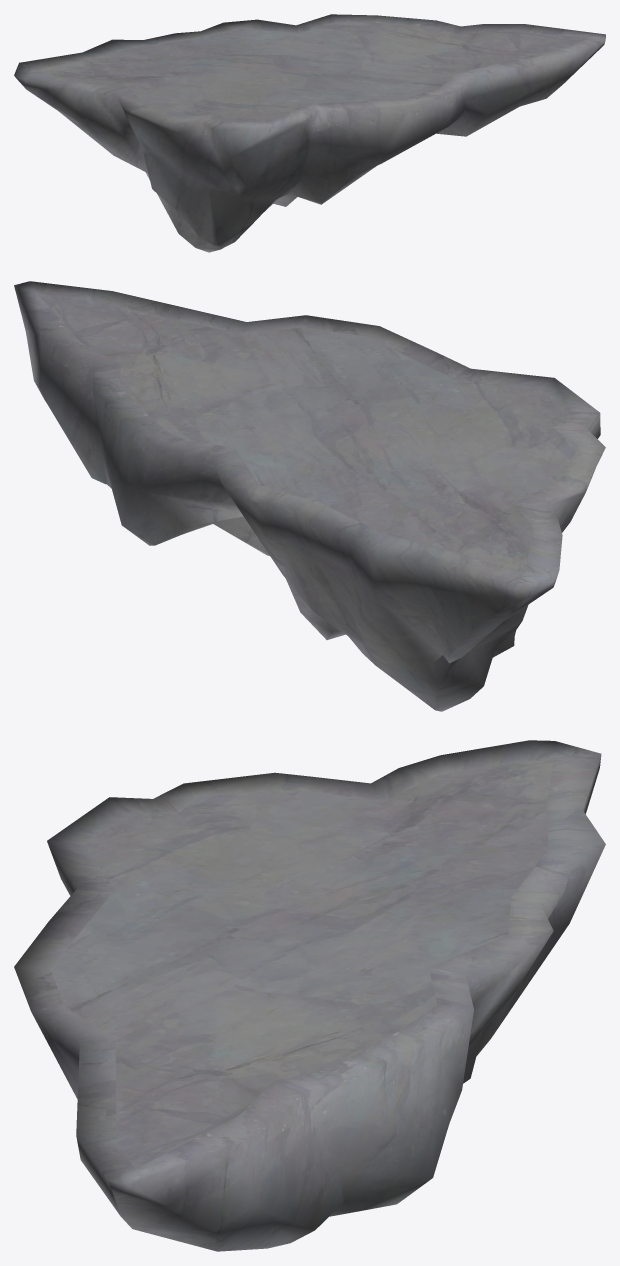
Rendered from Stages_MD_SDLStone10.fbx.
The picture shows the model from 3 angles, top to bottom: view 1: azimuth 30°, elevation 25°; view 2: azimuth 150°, elevation 25°; view 3: azimuth 270°, elevation 25°; orthographic projection. The views are drawn at different scales.
Visible parts, largest first — view 1: Stages_MD_SDLStone10_Lod1; view 2: Stages_MD_SDLStone10_Lod1; view 3: Stages_MD_SDLStone10_Lod1.
Part boxes in pixels (x1,y1,x2,y2): Stages_MD_SDLStone10_Lod1: (14,14,605,252); Stages_MD_SDLStone10_Lod1: (14,281,605,711); Stages_MD_SDLStone10_Lod1: (14,740,605,1251).
Size of what is drawn, in the model's own units: 51.5 by 18.21 by 28.28.
1 material, 1 textured.
